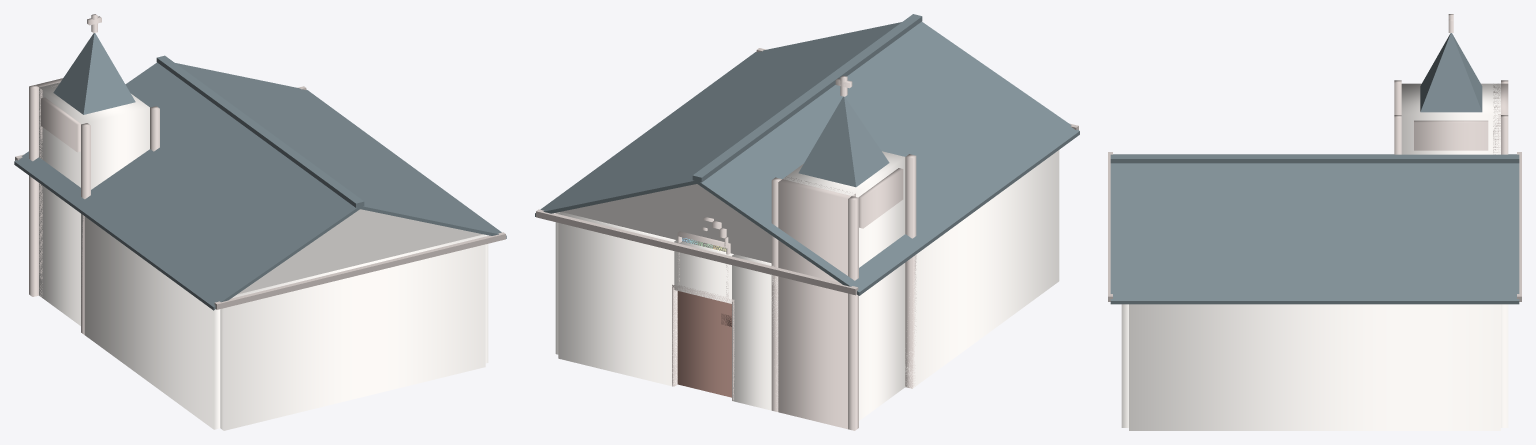
Rendered from Building_1_7.glb.
3 views of the same model, side by side, from view 1: azimuth 30°, elevation 25°; view 2: azimuth 150°, elevation 25°; view 3: azimuth 270°, elevation 25° (orthographic). The views are drawn at different scales.
Visible parts, largest first — view 1: Roof, BackWall, LeftWall, BellTower, BackGable, Spire, RidgeCap, Gutter_B, Corner_LF, TowerOpen_L, Corner_LB, TowerFront (+1 smaller); view 2: Roof, LeftWall, FrontWall_R, TowerFront, BellTower, FrontGable, FrontWall_L, DoorBody, Spire, RidgeCap, Gutter_F, FrontWall_T (+6 smaller); view 3: Roof, RightWall, RidgeCap, Spire, BellTower, TowerOpen_R, BackWall, FrontWall_R, TowerFront, Gutter_B, Gutter_F.
Part boxes in pixels (x1,y1,x2,y2): Roof: [14, 62, 506, 310]; BackWall: [220, 234, 485, 430]; LeftWall: [81, 214, 220, 429]; BellTower: [39, 82, 149, 325]; BackGable: [237, 209, 482, 294]; Spire: [53, 33, 135, 114]; RidgeCap: [156, 55, 364, 207]; Gutter_B: [214, 232, 505, 309]; Corner_LF: [29, 85, 38, 296]; TowerOpen_L: [41, 97, 80, 152]; Corner_LB: [81, 123, 90, 334]; TowerFront: [36, 78, 62, 297]; Roof: [535, 21, 1079, 295]; LeftWall: [905, 150, 1059, 388]; FrontWall_R: [558, 212, 677, 386]; TowerFront: [778, 176, 855, 429]; BellTower: [782, 151, 905, 420]; FrontGable: [561, 184, 771, 263]; FrontWall_L: [732, 254, 778, 410]; DoorBody: [677, 291, 731, 397]; Spire: [798, 96, 889, 187]; RidgeCap: [692, 14, 922, 182]; Gutter_F: [536, 209, 858, 295]; FrontWall_T: [674, 240, 733, 303]; Roof: [1110, 154, 1519, 304]; RightWall: [1129, 304, 1500, 430]; RidgeCap: [1110, 154, 1519, 163]; Spire: [1420, 33, 1482, 112]; BellTower: [1401, 83, 1500, 154]; TowerOpen_R: [1414, 120, 1488, 150]; BackWall: [1121, 304, 1128, 427]; FrontWall_R: [1501, 304, 1508, 427]; TowerFront: [1493, 83, 1508, 154]; Gutter_B: [1108, 152, 1112, 301]; Gutter_F: [1517, 152, 1521, 301].
Bounding box in the file's own units: 2.8 × 2.65 × 3.34.
